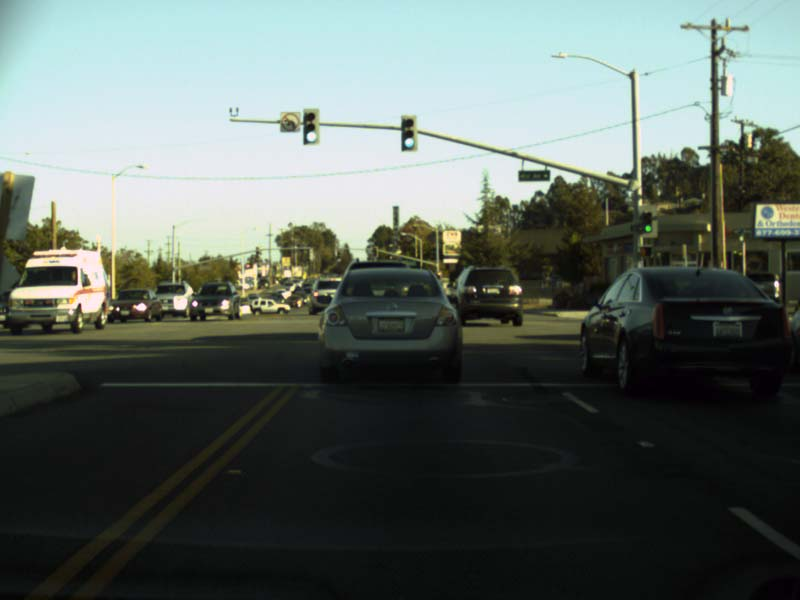Green: (303, 109, 319, 144), (400, 116, 416, 150), (642, 212, 651, 232)
